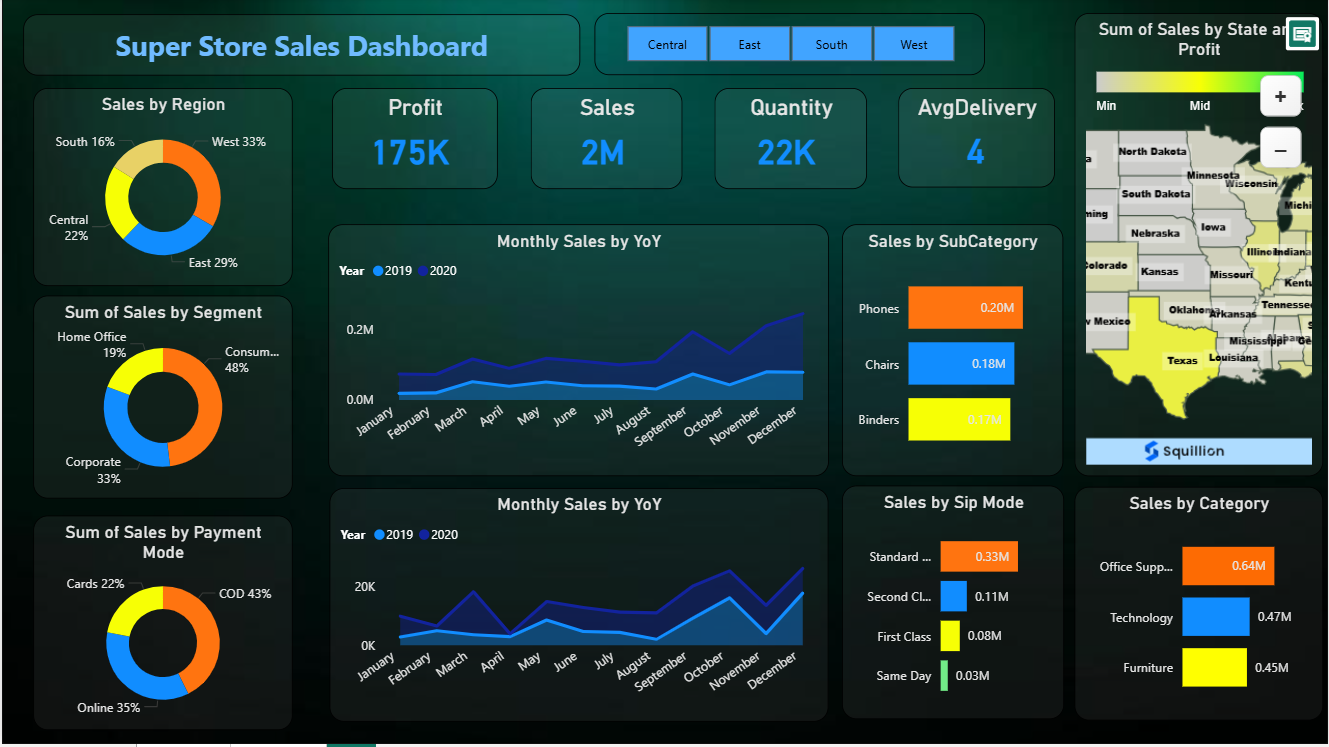

Layout of this report page (visuals, bound fields, positions):
{"tool":"powerbi","page":{"name":"Page 1","canvas":[1280,720],"ordinal":0},"visuals":[{"type":"clusteredBarChart","title":"Sales by Category","fields":{"Category":["SuperStore_Sales_Dataset.Category"],"Y":["Sum(SuperStore_Sales_Dataset.Sales)"]},"box":[1034.9,472.3,239.8,225.3],"z":0},{"type":"clusteredBarChart","title":"Sales by SubCategory","fields":{"Category":["SuperStore_Sales_Dataset.Sub-Category"],"Y":["Sum(SuperStore_Sales_Dataset.Sales)"]},"box":[810.8,218.1,213.3,243.4],"z":1000},{"type":"clusteredBarChart","title":"Sales by Sip Mode","fields":{"Category":["SuperStore_Sales_Dataset.Ship Mode"],"Y":["Sum(SuperStore_Sales_Dataset.Sales)"]},"box":[811,470.7,214.6,225.6],"z":2000},{"type":"stackedAreaChart","title":"Monthly Sales by YoY","fields":{"Y":["Sum(SuperStore_Sales_Dataset.Sales)"],"Category":["SuperStore_Sales_Dataset.Order Date.Variation.Date Hierarchy.Month","SuperStore_Sales_Dataset.Order Date.Variation.Date Hierarchy.Day"],"Series":["SuperStore_Sales_Dataset.Order Date.Variation.Date Hierarchy.Year"]},"box":[314.5,218.1,483.1,243.4],"z":3000},{"type":"stackedAreaChart","title":"Monthly Sales by YoY","fields":{"Category":["SuperStore_Sales_Dataset.Order Date.Variation.Date Hierarchy.Month","SuperStore_Sales_Dataset.Order Date.Variation.Date Hierarchy.Day"],"Series":["SuperStore_Sales_Dataset.Order Date.Variation.Date Hierarchy.Year"],"Y":["Sum(SuperStore_Sales_Dataset.Profit)"]},"box":[315.9,473.2,481.7,225.6],"z":4000},{"type":"donutChart","fields":{"Category":["SuperStore_Sales_Dataset.Segment"],"Y":["Sum(SuperStore_Sales_Dataset.Sales)"]},"box":[30.5,286.6,250,196.3],"z":5000},{"type":"donutChart","fields":{"Category":["SuperStore_Sales_Dataset.Payment Mode"],"Y":["Sum(SuperStore_Sales_Dataset.Sales)"]},"box":[30.5,500,250,207.3],"z":6000},{"type":"slicer","fields":{"Values":["SuperStore_Sales_Dataset.Region"]},"box":[572,14.6,376.8,59.8],"z":7000},{"type":"textbox","box":[20.6,15.1,537.9,59],"z":8000},{"type":"advanceCardE03760C5AB684758B56AA29F9E6C257B","title":"Sales","fields":{"mainMeasure":["Sum(SuperStore_Sales_Dataset.Sales)"]},"box":[509.8,86.6,146.3,97.6],"z":9000},{"type":"advanceCardE03760C5AB684758B56AA29F9E6C257B","title":"Profit","fields":{"mainMeasure":["Sum(SuperStore_Sales_Dataset.Profit)"]},"box":[318.3,86.6,159.8,97.6],"z":10000},{"type":"advanceCardE03760C5AB684758B56AA29F9E6C257B","title":"Quantity","fields":{"mainMeasure":["Sum(SuperStore_Sales_Dataset.Quantity)"]},"box":[687.8,86.6,147.6,97.6],"z":11000},{"type":"advanceCardE03760C5AB684758B56AA29F9E6C257B","title":"AvgDelivery","fields":{"mainMeasure":["Avg(SuperStore_Sales_Dataset.AverageDelivery)"]},"box":[864.6,86.6,151.2,96.3],"z":12000},{"type":"MapBySquillion","fields":{"category":["SuperStore_Sales_Dataset.State"],"value":["Sum(SuperStore_Sales_Dataset.Sales)"],"subCategory":["SuperStore_Sales_Dataset.Profit"]},"box":[1034.9,14.5,239.8,447],"z":13000},{"type":"donutChart","title":" Sales by Region","fields":{"Y":["Sum(SuperStore_Sales_Dataset.Sales)"],"Category":["SuperStore_Sales_Dataset.Region"]},"box":[30.5,86.6,250,191.5],"z":14000}]}

Visuals, with their boxes in screenshot pixels (x1, y1, x2, y2), scaled from the page's 1280x720 canvas onto the 1329x747 screenshot:
"Sales by Category" clusteredBarChart: <box>1075,490,1323,724</box>
"Sales by SubCategory" clusteredBarChart: <box>842,226,1063,479</box>
"Sales by Sip Mode" clusteredBarChart: <box>842,488,1065,722</box>
"Monthly Sales by YoY" stackedAreaChart: <box>327,226,828,479</box>
"Monthly Sales by YoY" stackedAreaChart: <box>328,491,828,725</box>
donutChart - SuperStore_Sales_Dataset.Segment x Sum(SuperStore_Sales_Dataset.Sales): <box>32,297,291,501</box>
donutChart - SuperStore_Sales_Dataset.Payment Mode x Sum(SuperStore_Sales_Dataset.Sales): <box>32,519,291,734</box>
slicer - SuperStore_Sales_Dataset.Region: <box>594,15,985,77</box>
textbox: <box>21,16,580,77</box>
"Sales" advanceCardE03760C5AB684758B56AA29F9E6C257B: <box>529,90,681,191</box>
"Profit" advanceCardE03760C5AB684758B56AA29F9E6C257B: <box>330,90,496,191</box>
"Quantity" advanceCardE03760C5AB684758B56AA29F9E6C257B: <box>714,90,867,191</box>
"AvgDelivery" advanceCardE03760C5AB684758B56AA29F9E6C257B: <box>898,90,1055,190</box>
MapBySquillion - SuperStore_Sales_Dataset.State x Sum(SuperStore_Sales_Dataset.Sales): <box>1075,15,1323,479</box>
" Sales by Region" donutChart: <box>32,90,291,289</box>
